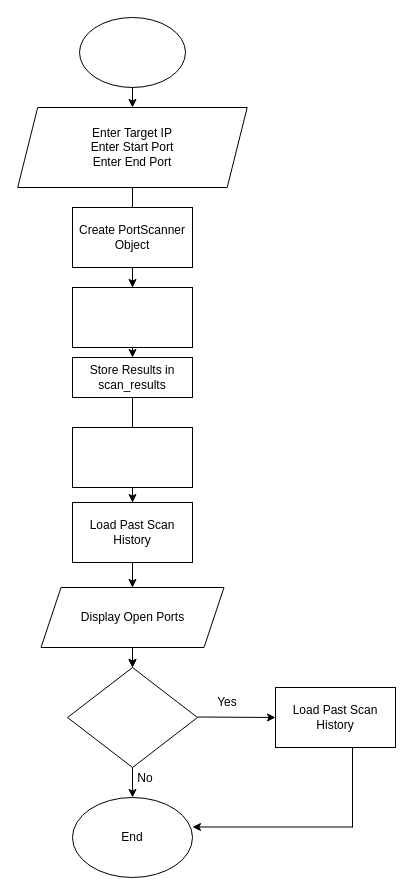
Some shapes in this 413 by 895 pixel diagram are drawn without their labels. Here are the shapes that lost their labels. From the top down, the centre of each, then its label:
At (x=132, y=52): "Start".
At (x=132, y=317): "Scan Ports Using Threads".
At (x=132, y=457): "Save Results to Database".
At (x=132, y=717): "View Past Scans?".
